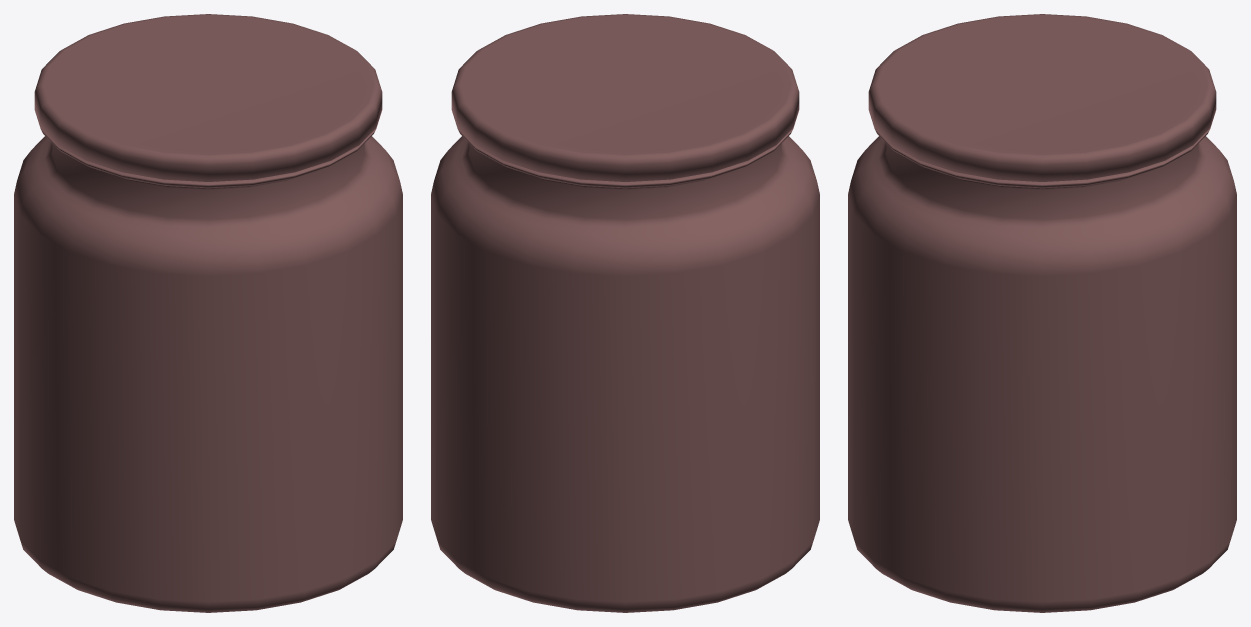
The model's file is Prop_Jar_01.fbx.
The picture shows the model from 3 angles, left to right: view 1: azimuth 30°, elevation 25°; view 2: azimuth 150°, elevation 25°; view 3: azimuth 270°, elevation 25°; orthographic projection.
Visible parts, largest first — view 1: Env_Jar1, Env_Jar1Cover; view 2: Env_Jar1, Env_Jar1Cover; view 3: Env_Jar1, Env_Jar1Cover.
Part boxes in pixels (x1,y1,x2,y2): Env_Jar1: (14, 109, 402, 612); Env_Jar1Cover: (34, 14, 382, 181); Env_Jar1: (431, 109, 819, 612); Env_Jar1Cover: (451, 14, 799, 181); Env_Jar1: (848, 109, 1236, 612); Env_Jar1Cover: (868, 14, 1216, 181).
Bounding box in the file's own units: 27.06 × 34.73 × 27.06.
